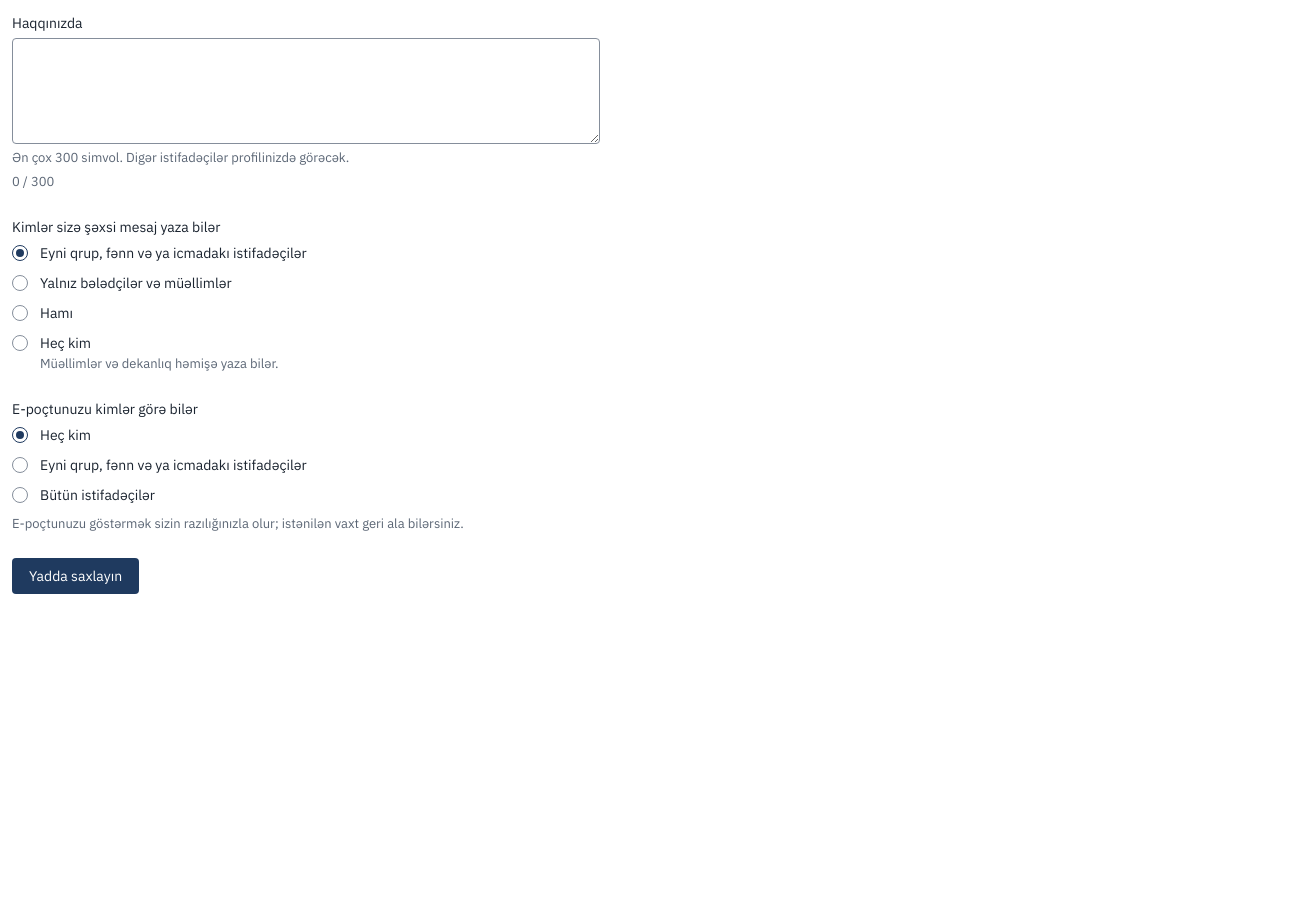
Test: ProfileForm › saves bio and privacy settings with the edited version
The width and height of the screenshot is (1292, 912).
Type "Statistika" into the text box labelled "Haqqınızda".
click(306, 91); type("Statistika")  # box x1=12 y1=38 x2=600 y2=144
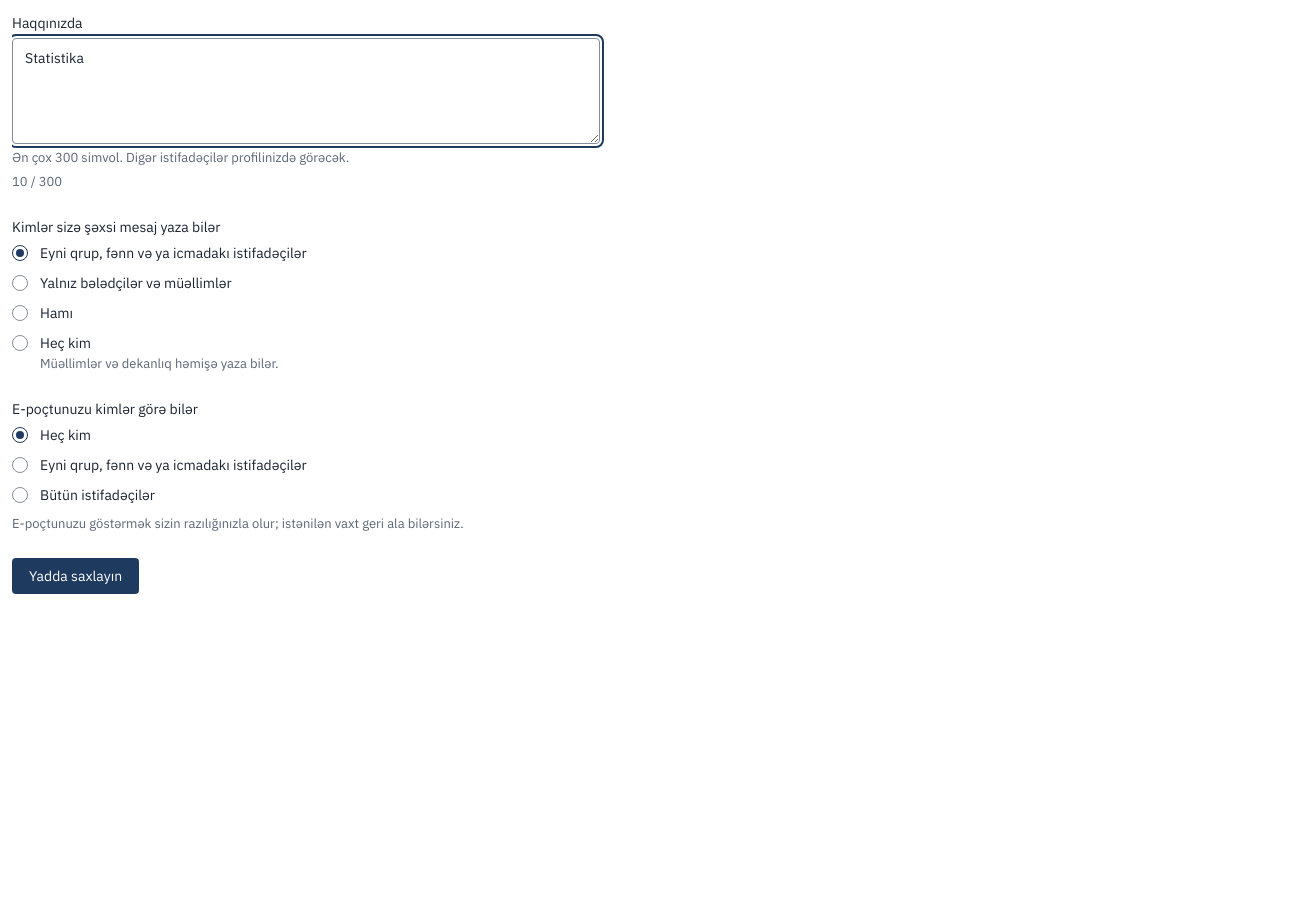
Expected: the text "10 / 300" is shown, x1=12 y1=173 x2=62 y2=190
Click the 4th radio button named "Heç kim".
click(20, 343)  # box x1=12 y1=335 x2=28 y2=351
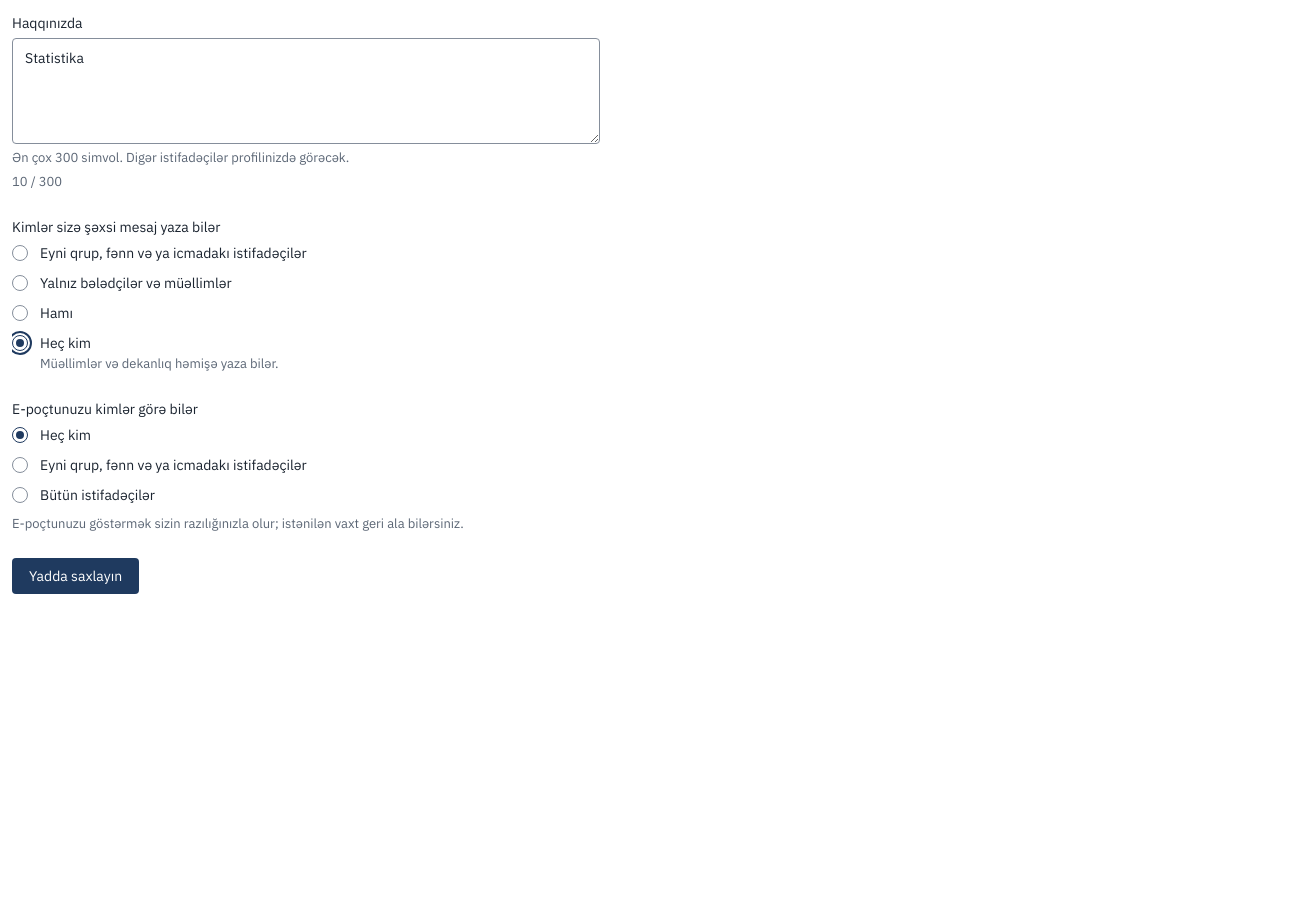
Click the radio button named "Bütün istifadəçilər" next to "Bütün istifadəçilər".
click(20, 495)  # box x1=12 y1=487 x2=28 y2=503
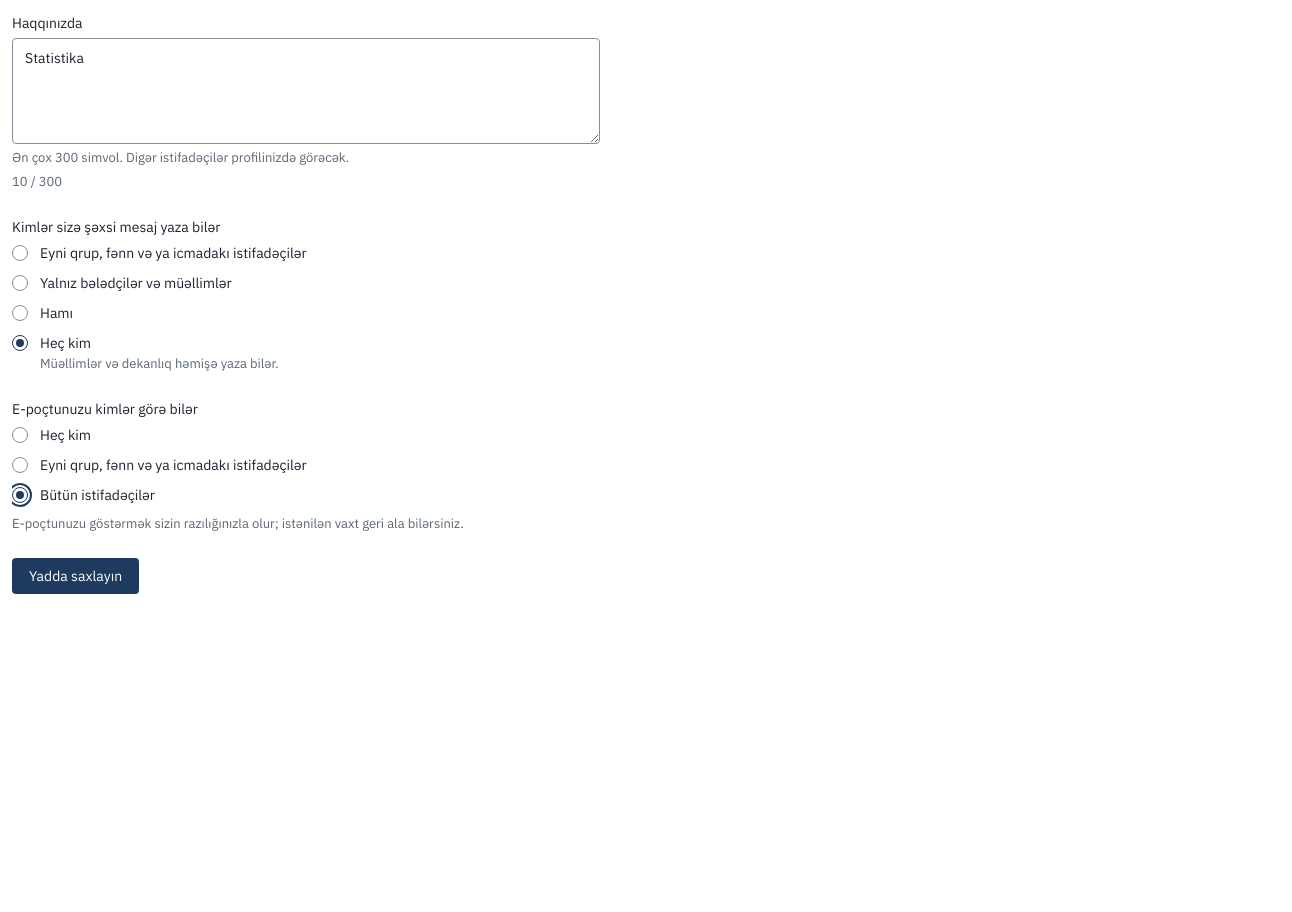
Click the button "Yadda saxlayın".
click(76, 576)  # box x1=12 y1=558 x2=139 y2=594
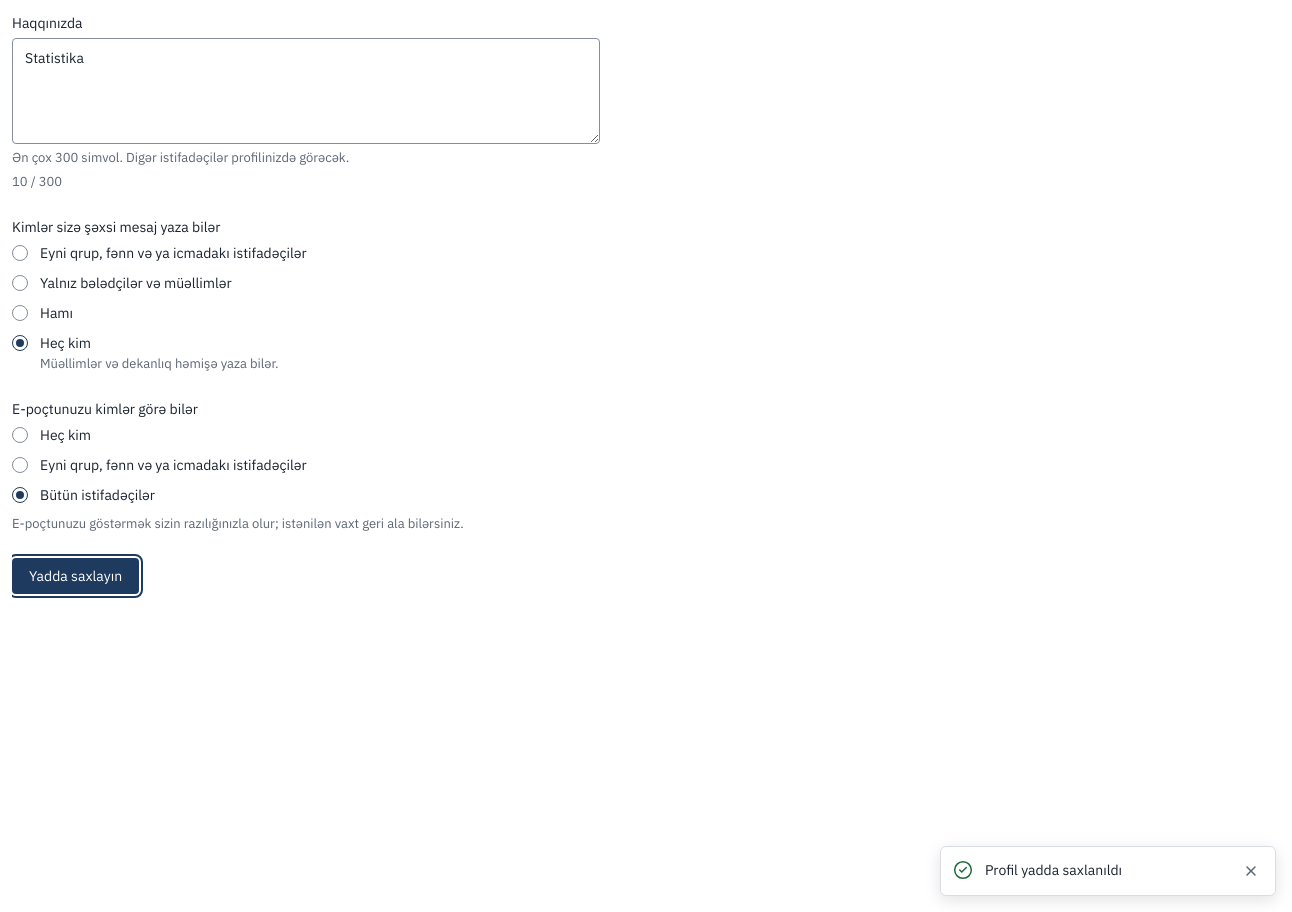
Expected: the text "Profil yadda saxlanıldı" is shown, x1=985 y1=861 x2=1122 y2=879
